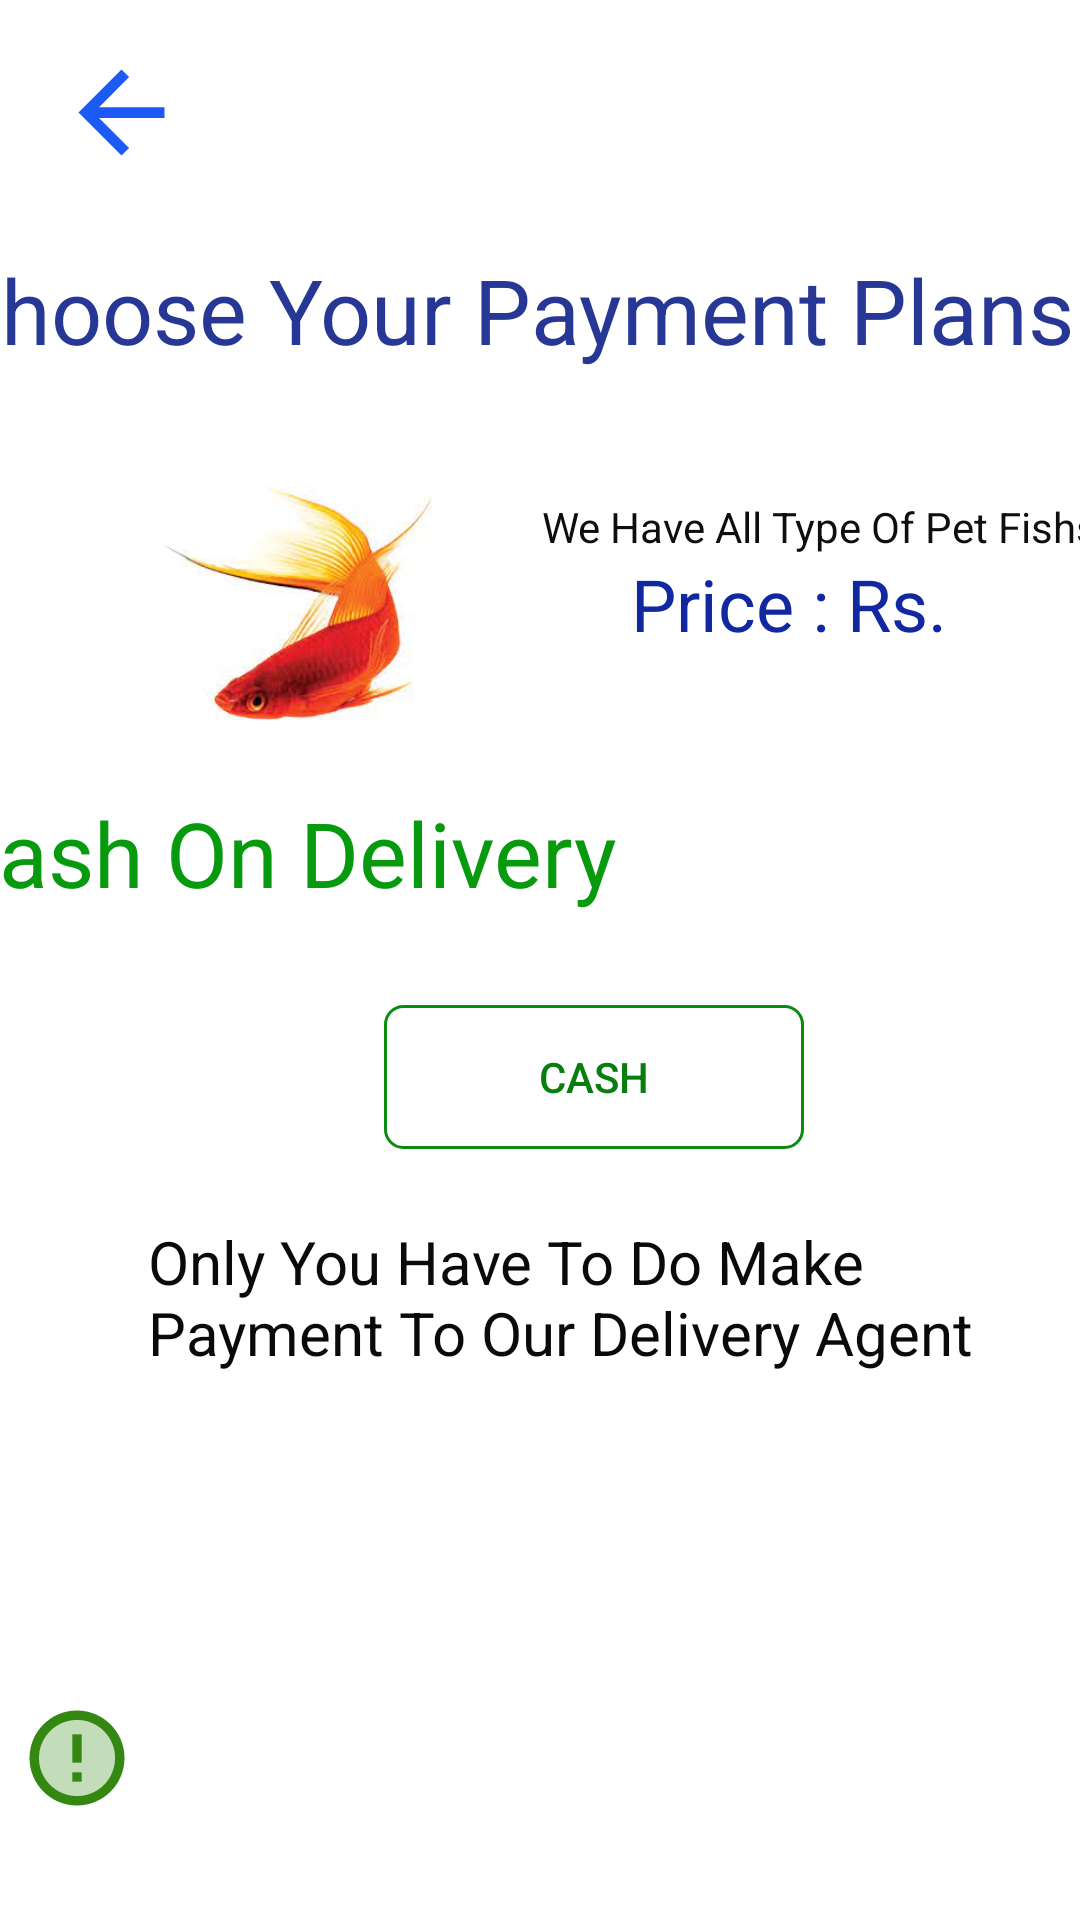

Named icons in this screenshot (1080x1920) and their bounding boxes, (x1, y1, x2, y2):
arrow back: (78, 69, 165, 156)
error: (29, 1710, 125, 1806)
images: (169, 488, 431, 720)
